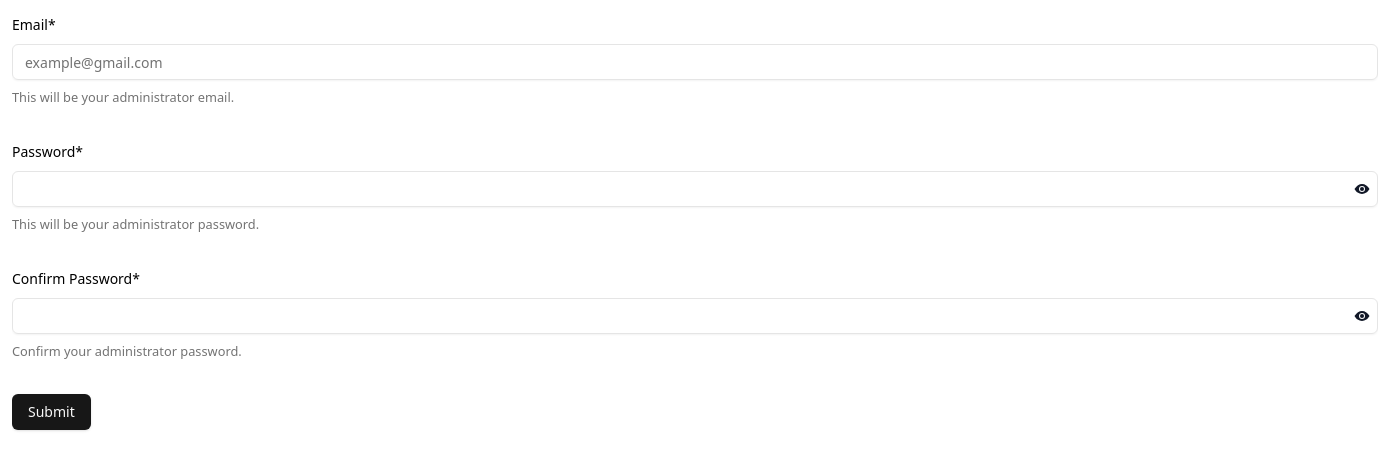
Test: AdminForm › throws error if email is empty
Type "password" into the password field labelled "Password*".
click(695, 189); type("password")  # box x1=12 y1=171 x2=1378 y2=207
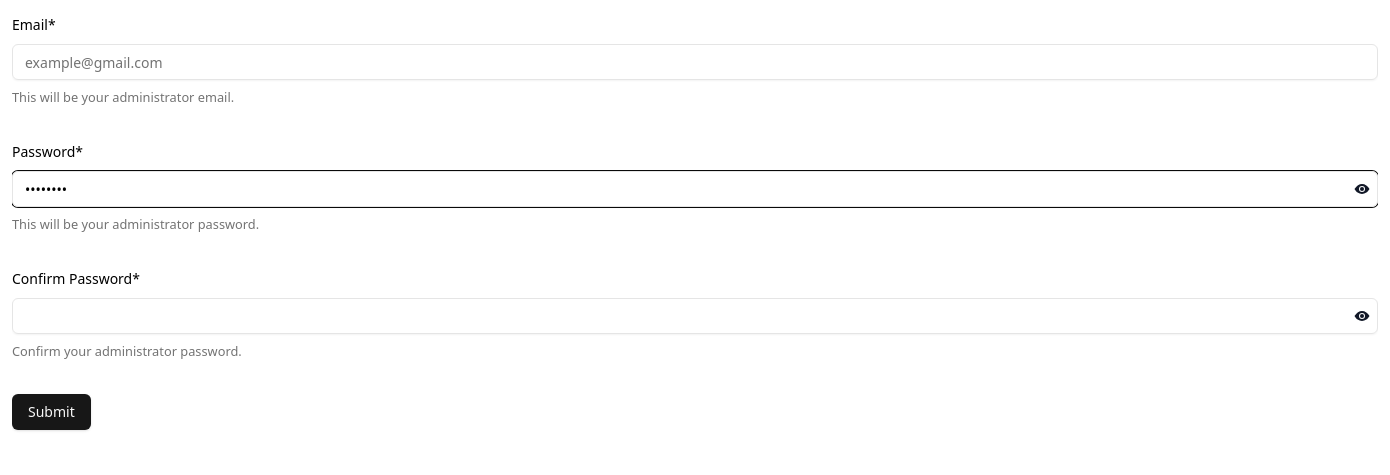
Type "password" into the password field labelled "Confirm Password*".
click(695, 316); type("password")  # box x1=12 y1=298 x2=1378 y2=334
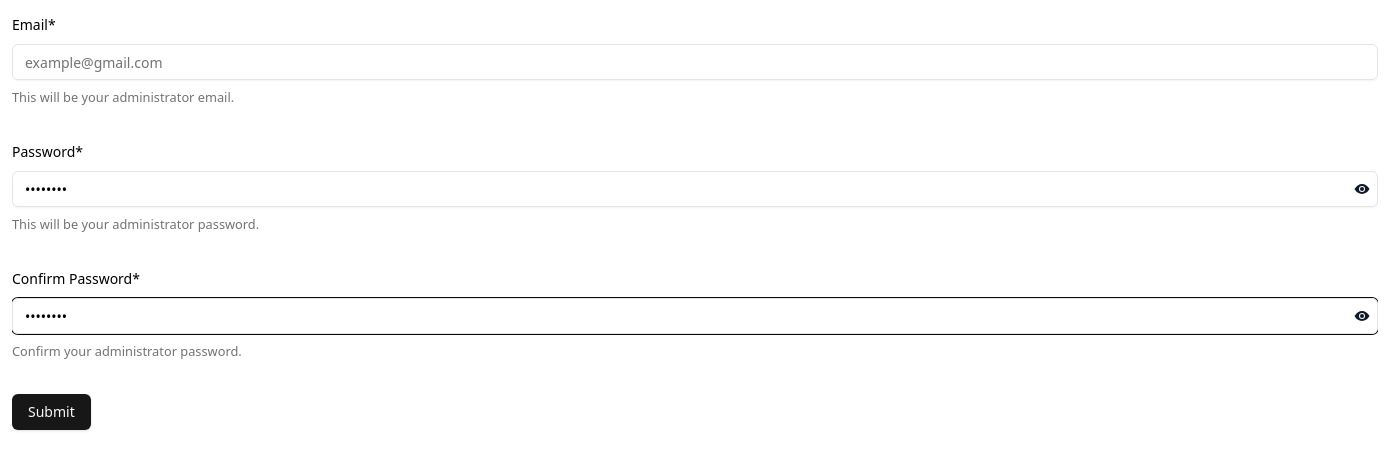
Click the button "Submit".
click(51, 412)  # box x1=12 y1=394 x2=91 y2=430
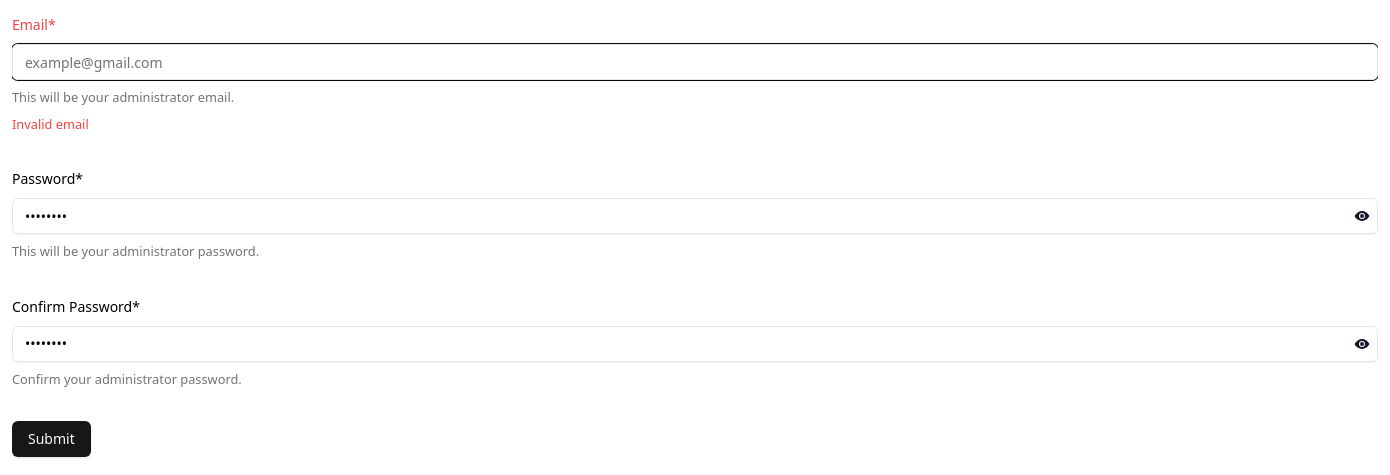
Now the text "Invalid email" is shown, box x1=12 y1=115 x2=89 y2=133
